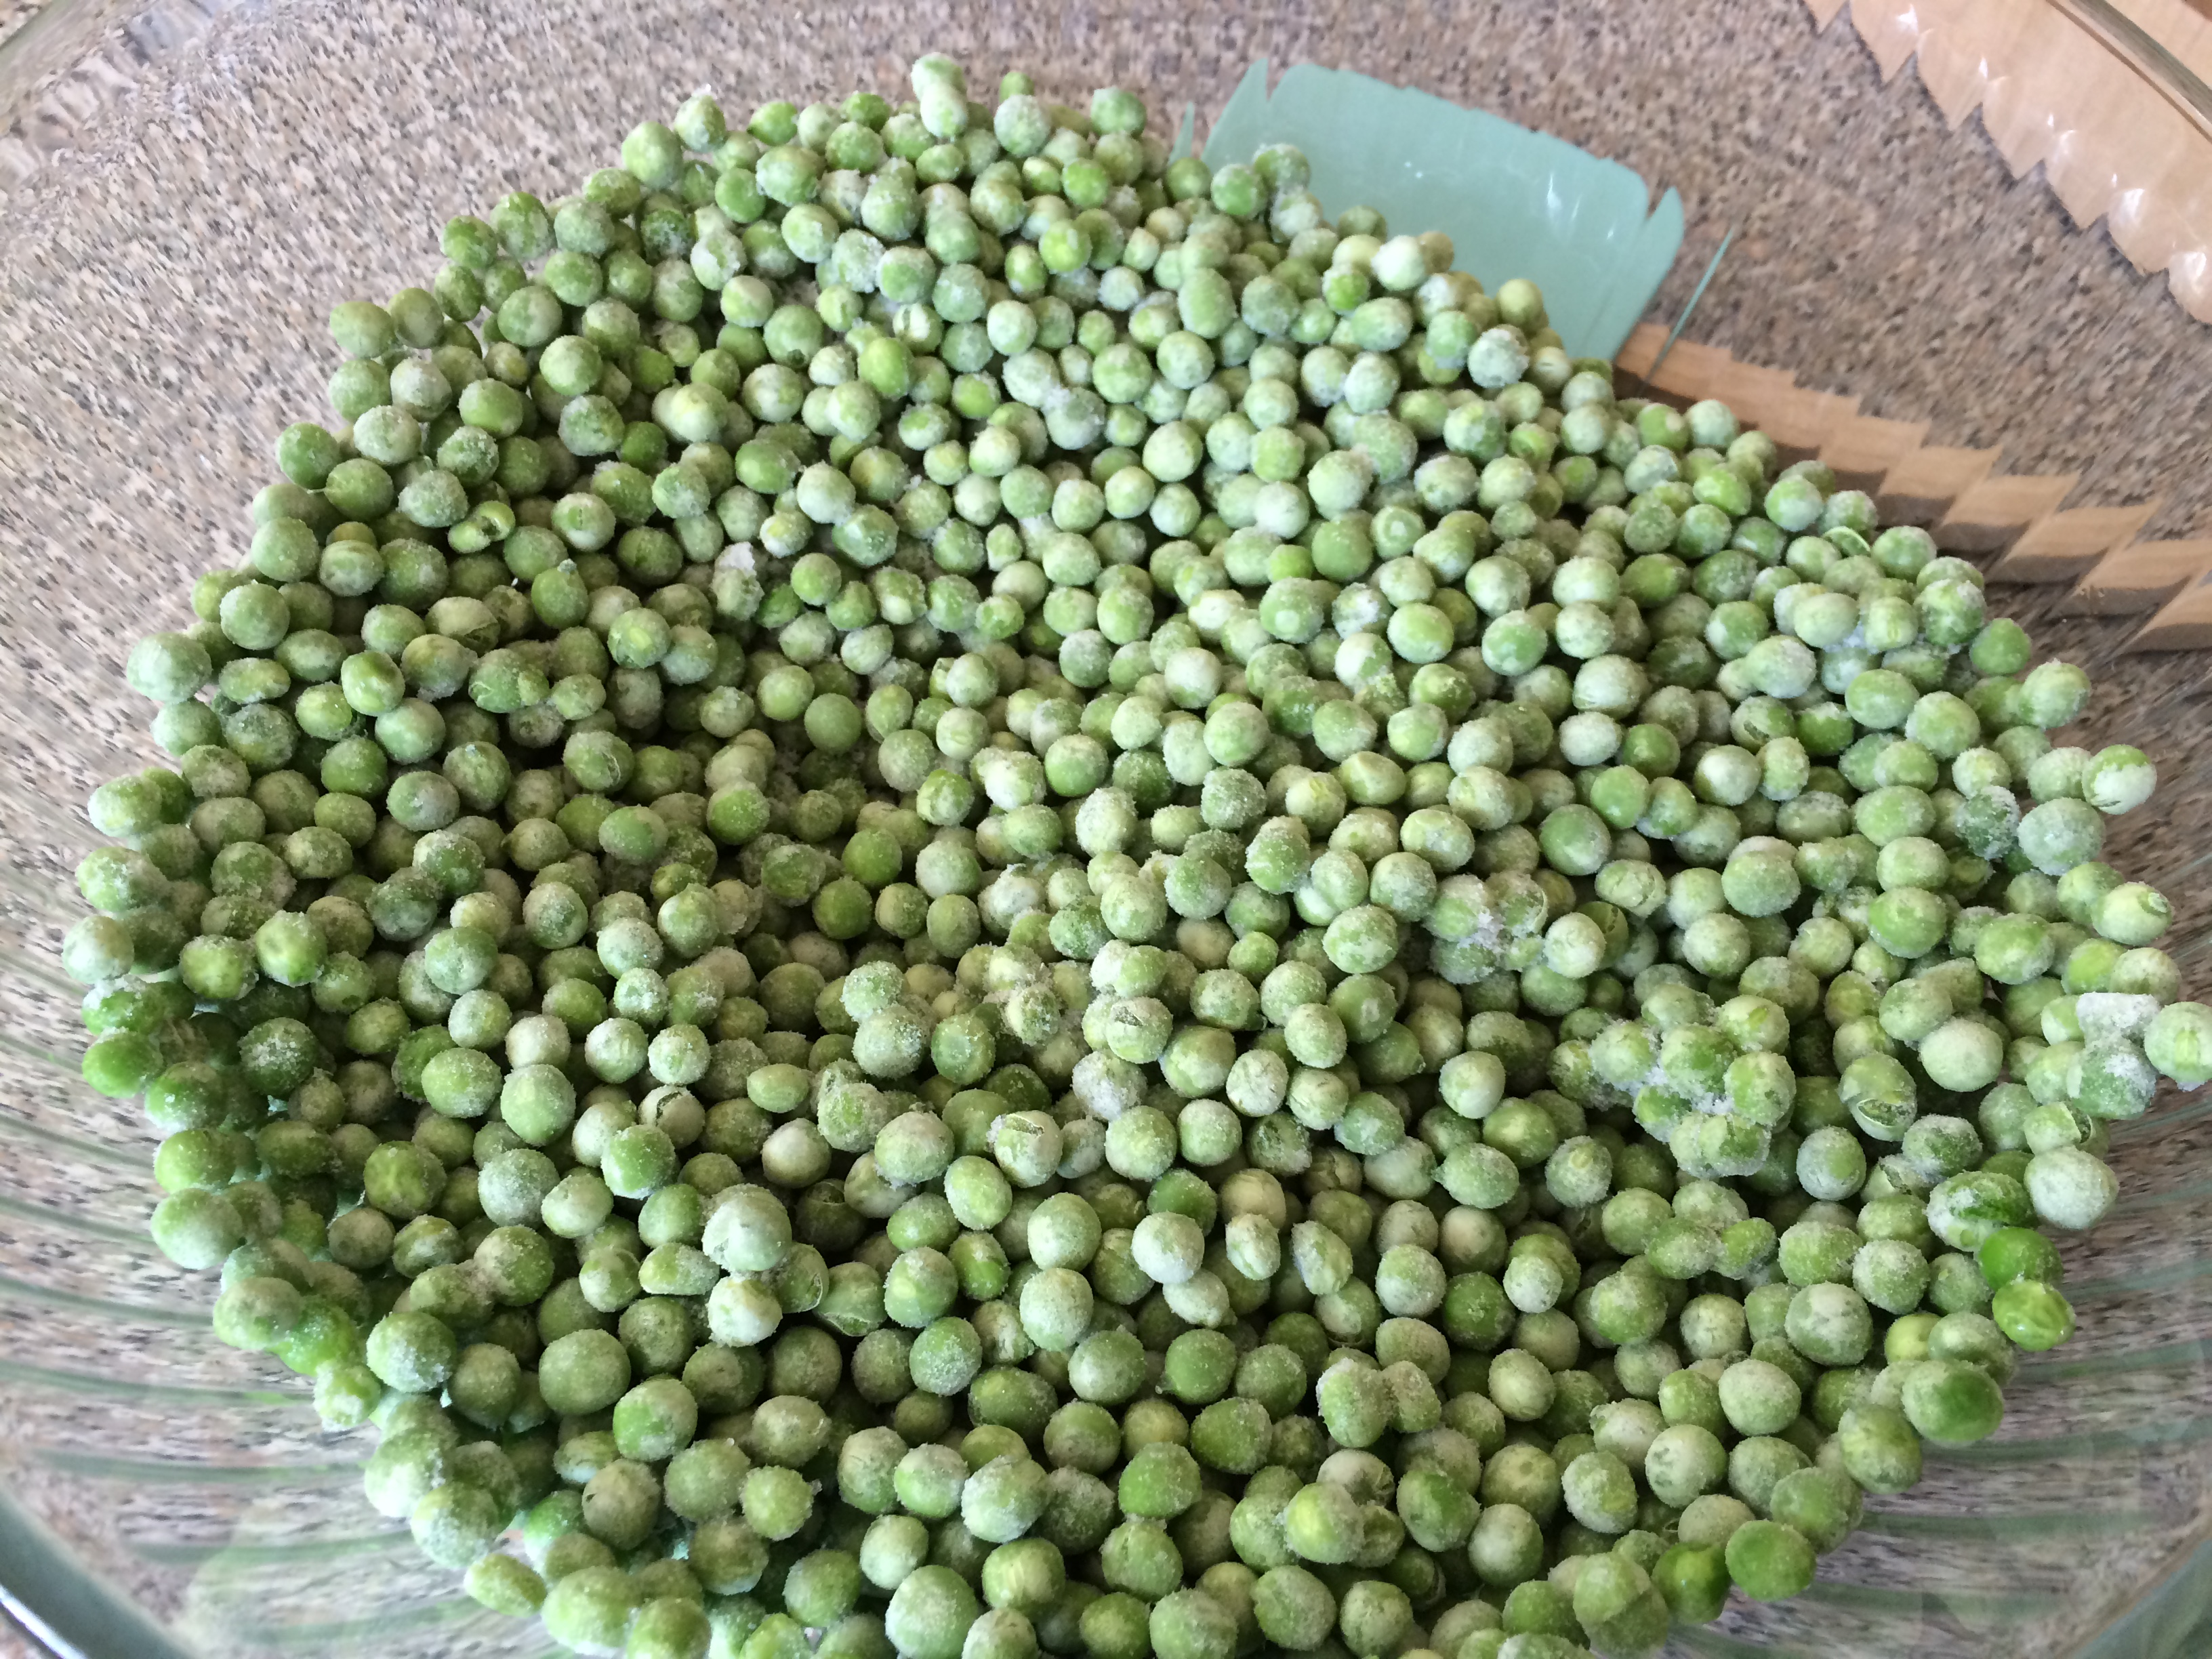boiled peas: (131, 99, 2200, 1635)
